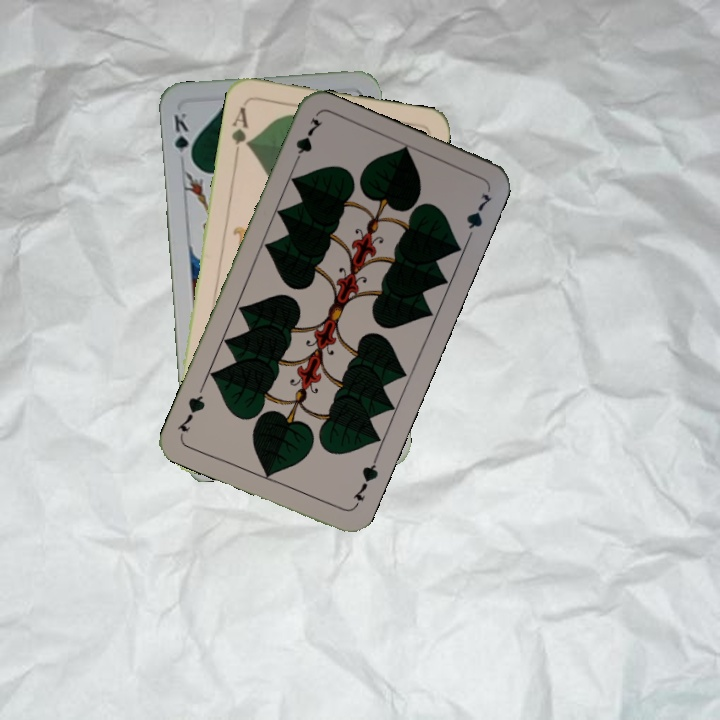G7: (288, 113, 325, 170), (348, 454, 381, 510)
GA: (227, 103, 253, 160)
GK: (170, 109, 195, 165)
